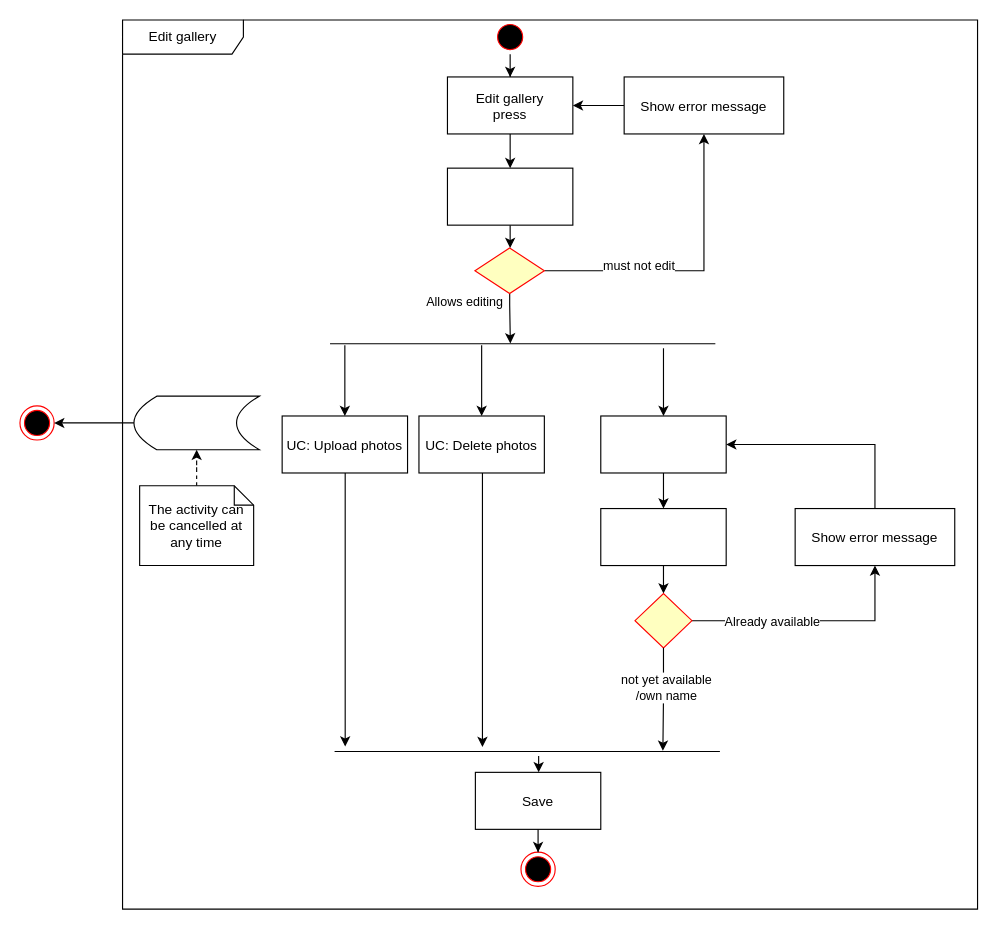
Some shapes in this 998 by 929 pixel diagram are drawn without their labels. Here are the shapes that lost their labels. From the top down, the box of each, then its label:
(446, 167, 573, 225): Validate token/user
(133, 395, 259, 450): Cancel
(600, 415, 726, 473): Edit name
(600, 507, 726, 566): Validate name
